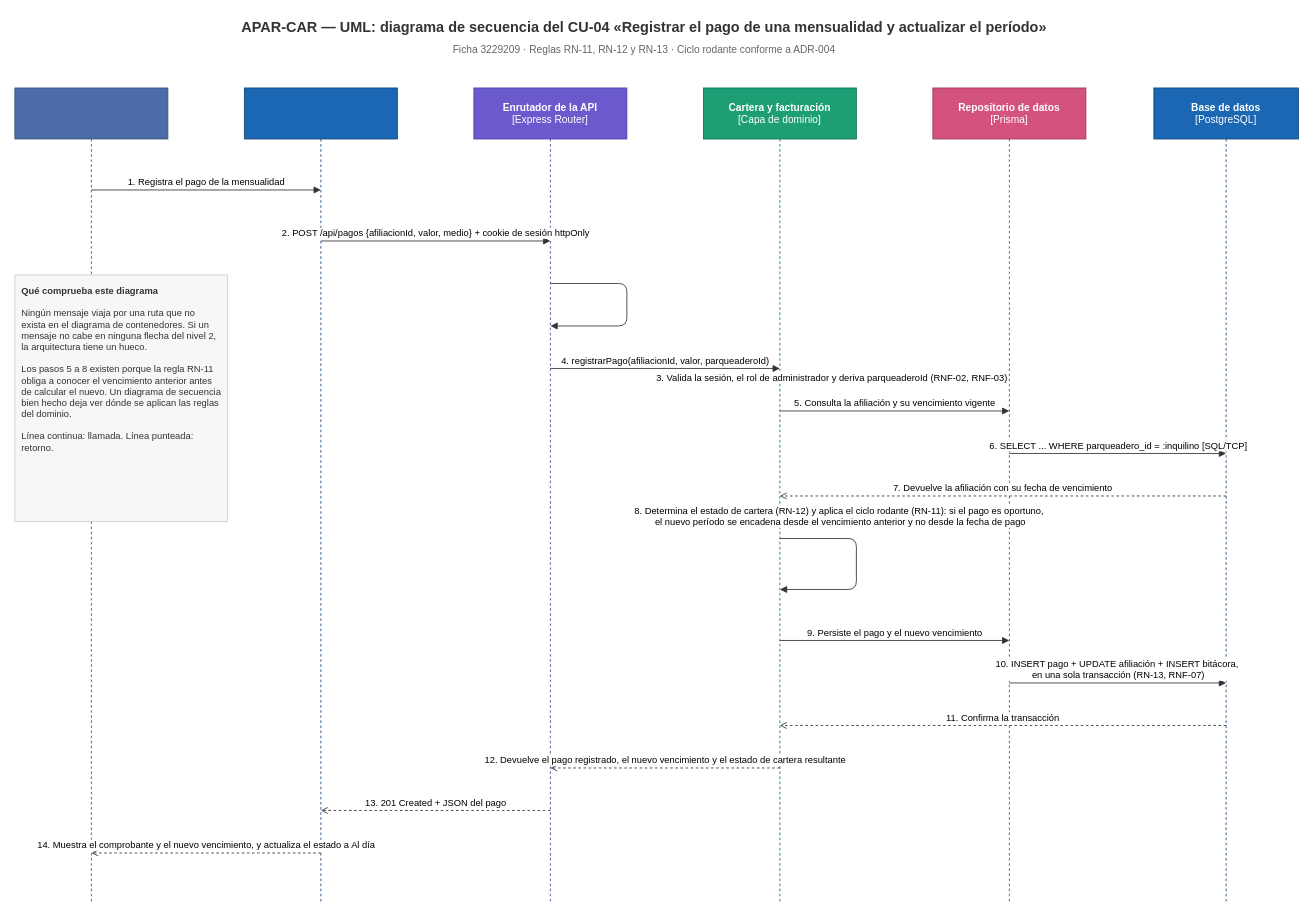
This 1313x919 diagram has some shape labels left out. The box of each missing label's shape, as (x1, y1, x2, y2) in pixels:
Administrador [Persona]: (14, 87, 168, 904)
Aplicación cliente [React 18]: (244, 87, 397, 904)
